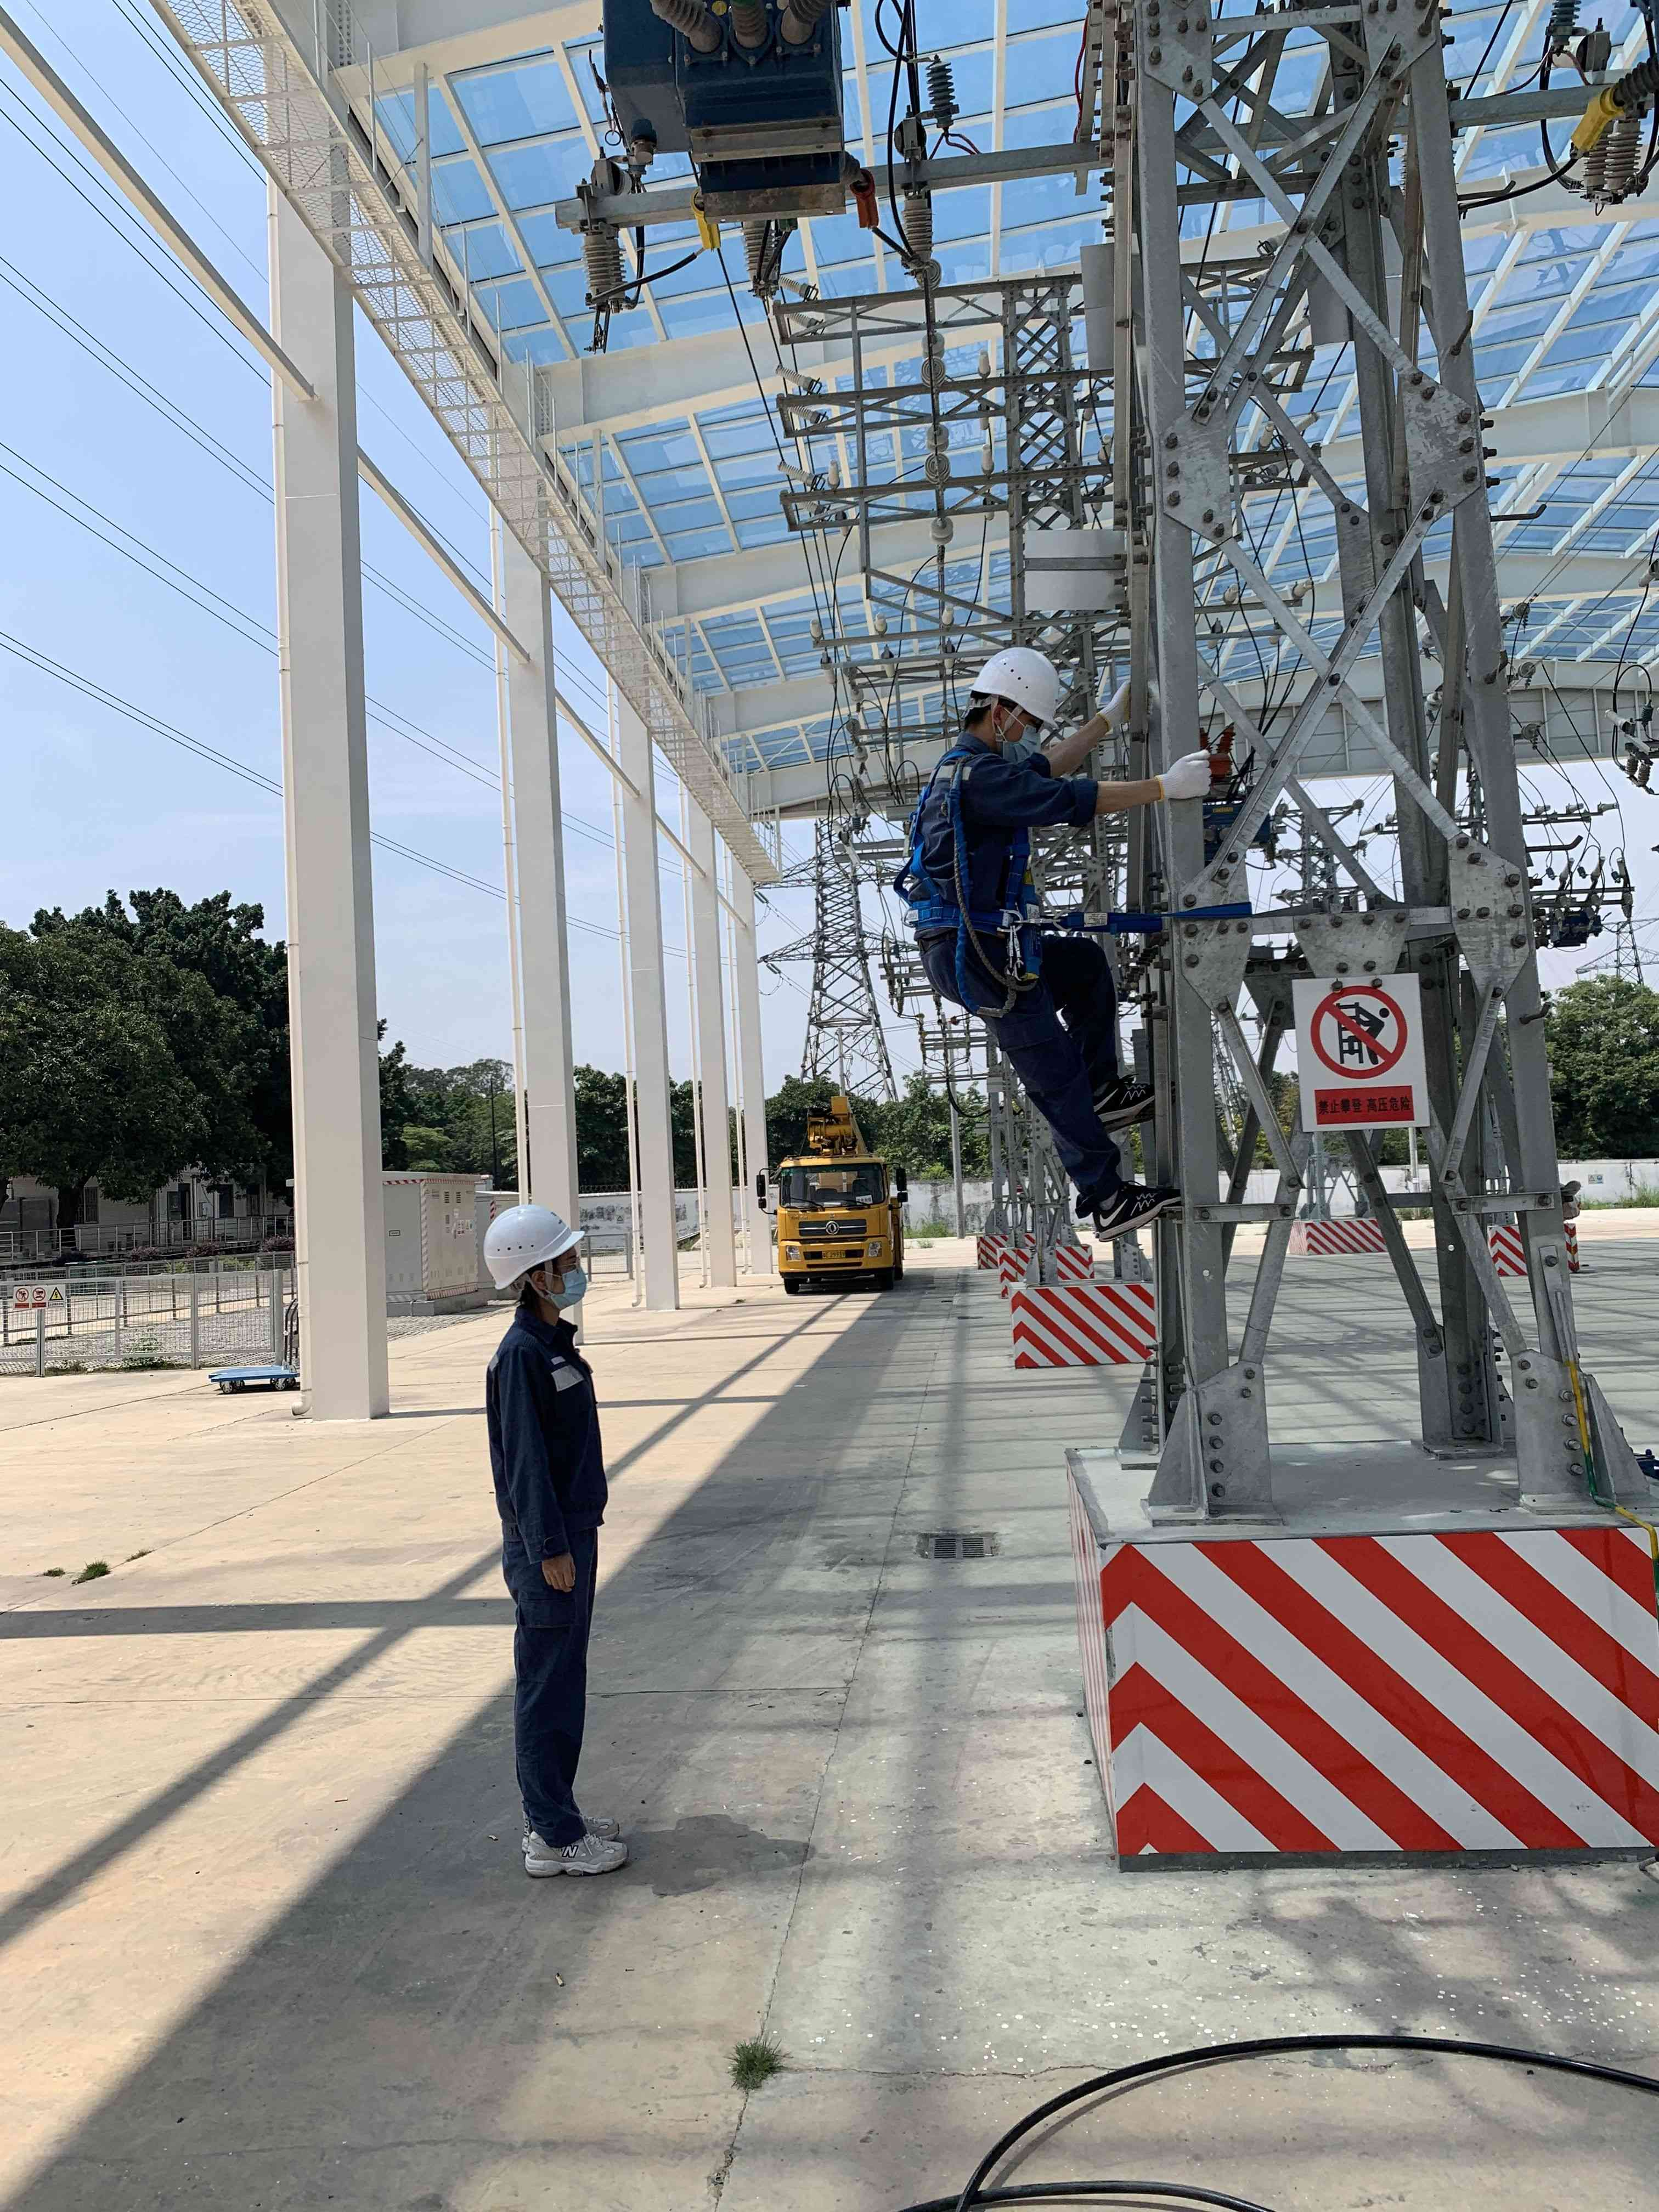downsuit: (941, 961, 1131, 1209), (519, 1561, 594, 1857)
upsuit: (894, 738, 1108, 937), (488, 1313, 601, 1538)
wrongtop: (1080, 761, 1175, 833), (1023, 712, 1117, 775)
